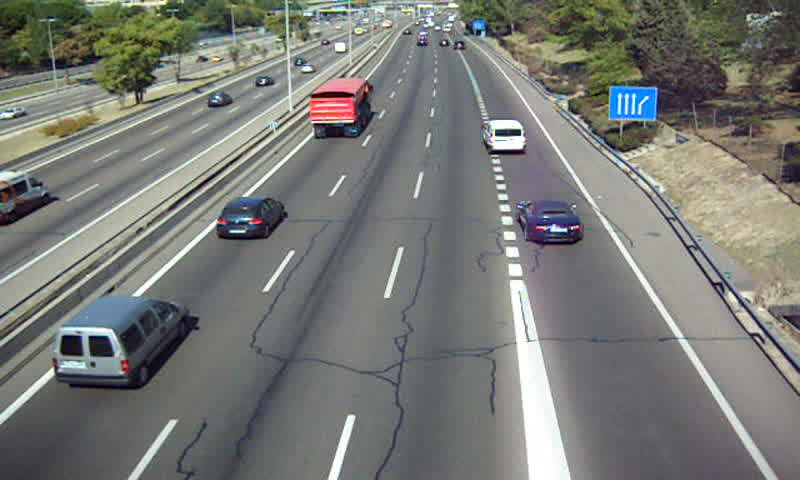car: (217, 196, 284, 240), (519, 201, 583, 245)
truck: (310, 79, 370, 140)
van: (53, 296, 185, 387), (481, 120, 526, 153)
